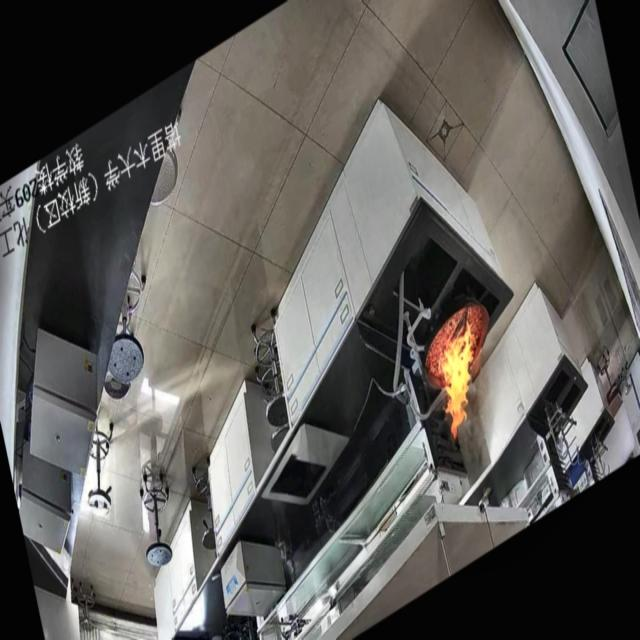fire: (424, 317, 494, 447)
